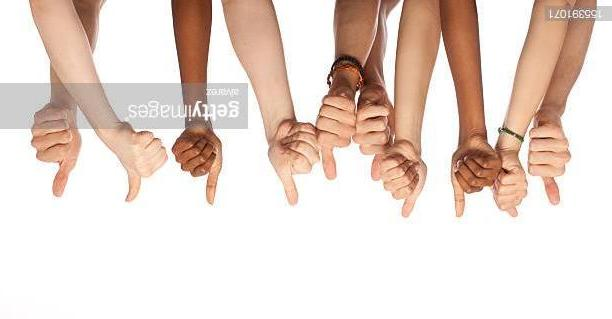thumbsdown: (31, 108, 76, 197), (276, 122, 319, 206), (172, 134, 221, 206), (528, 126, 572, 206), (316, 95, 357, 180), (451, 150, 502, 218), (125, 131, 169, 203), (378, 154, 425, 219), (354, 106, 392, 181)
